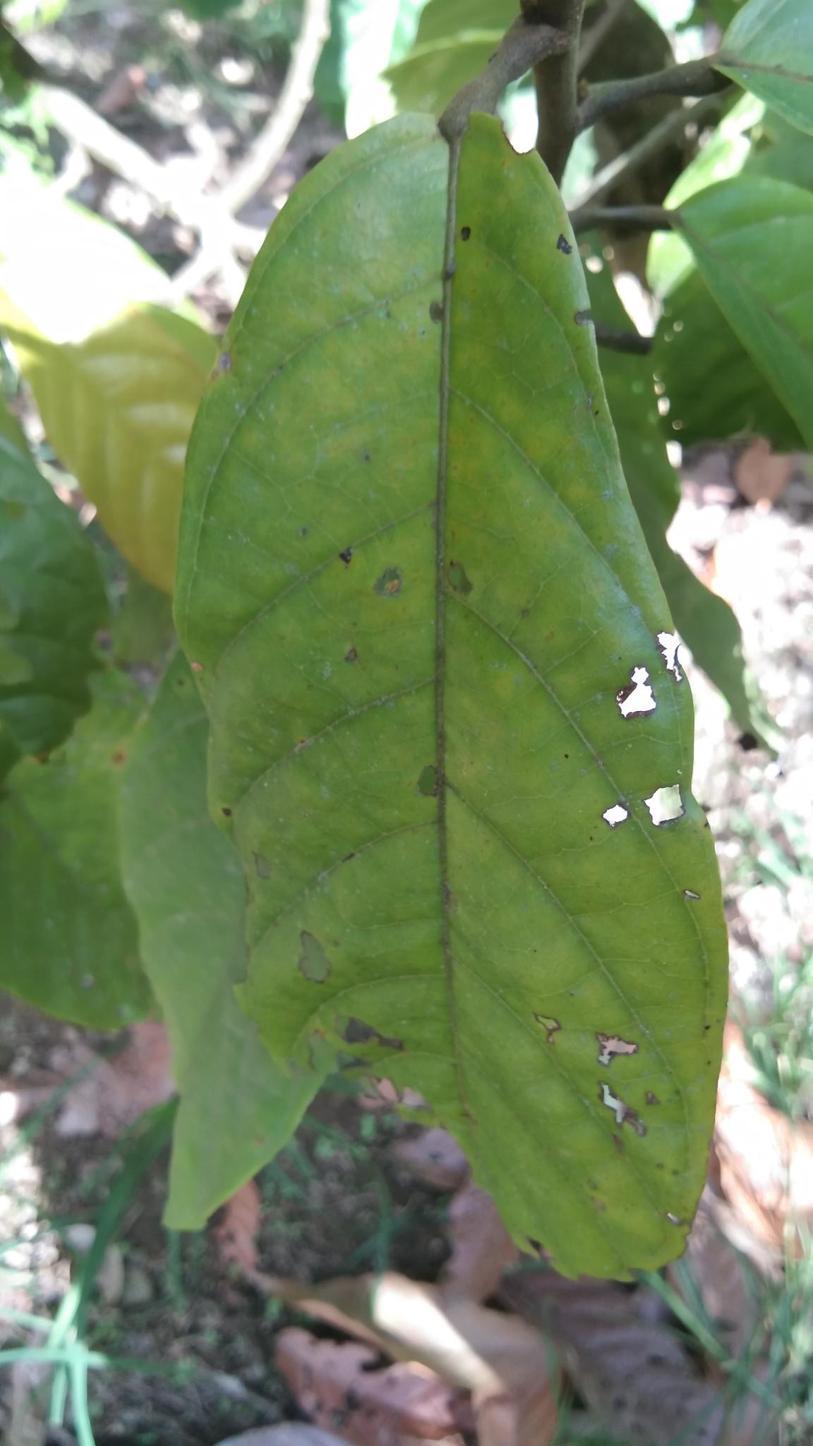Fosforo: (156, 122, 719, 1272)
